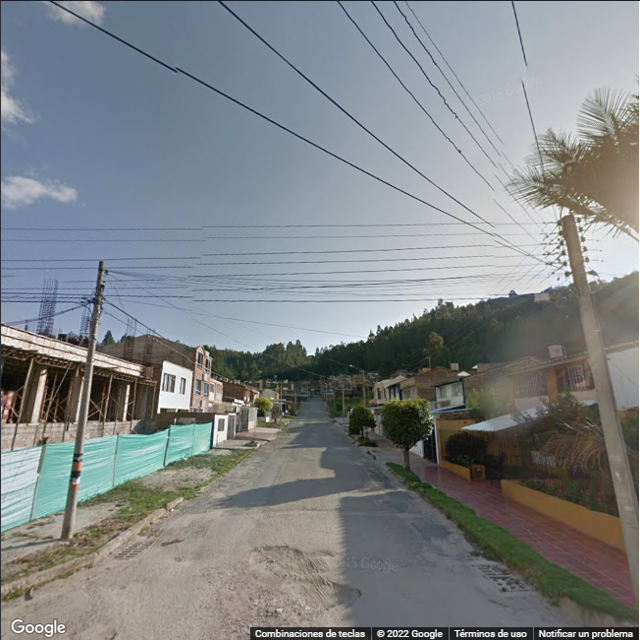D40: (282, 579, 358, 613), (249, 542, 330, 573)
